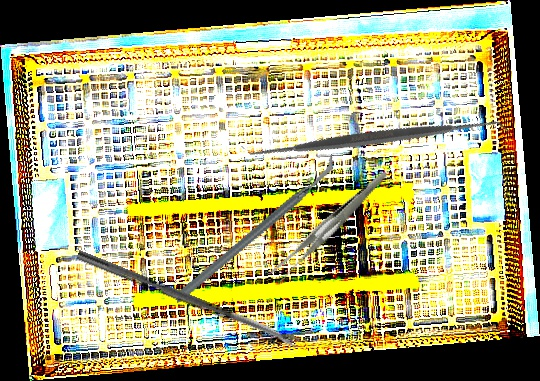Chopper: (148, 153, 361, 304)
Dressing Forceps: (252, 171, 409, 285)
Spatula Surgical: (241, 4, 509, 273)
Surgical Spoon: (75, 250, 300, 349)
